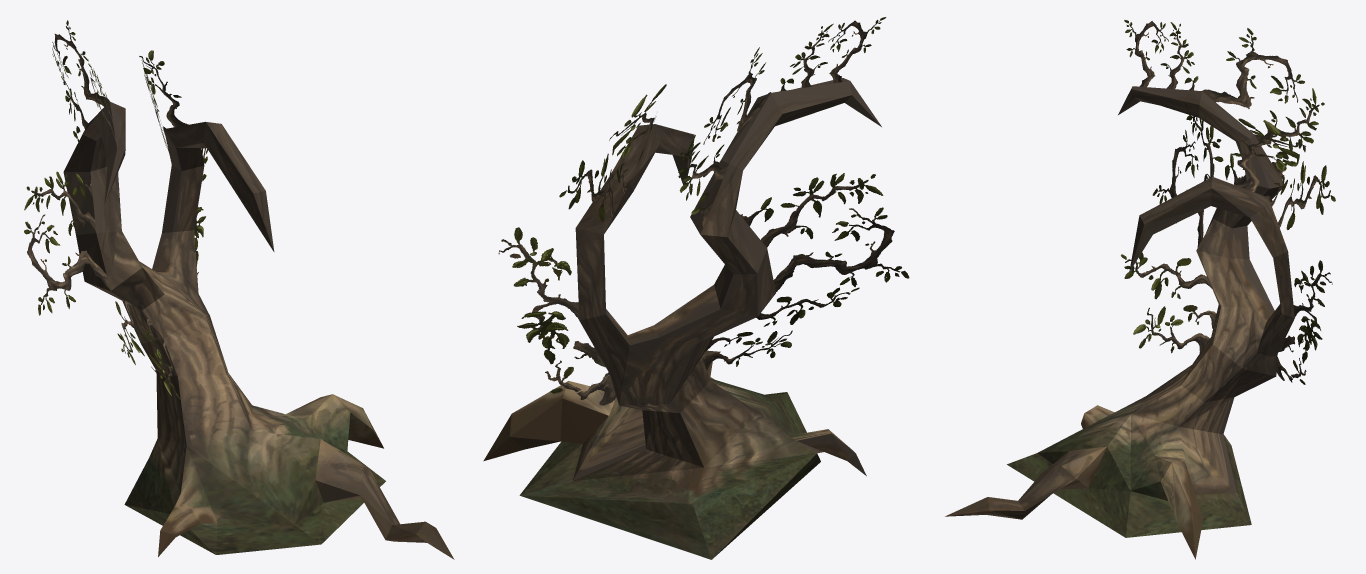
The model's file is plants_gnarled_tree_trunks.fbx.
3 renders of one model, left to right at view 1: azimuth 30°, elevation 25°; view 2: azimuth 150°, elevation 25°; view 3: azimuth 270°, elevation 25°, orthographic. The views are drawn at different scales.
Parts seen in each view (by area): view 1: obj0.128; view 2: obj0.128; view 3: obj0.128.
Boxes of the visible parts, left/top/right/bottom form: obj0.128: left=24, top=20, right=454, bottom=559; obj0.128: left=483, top=17, right=909, bottom=559; obj0.128: left=945, top=20, right=1335, bottom=559.
Size of the model in its own units: 7.79 by 9.92 by 8.37.
